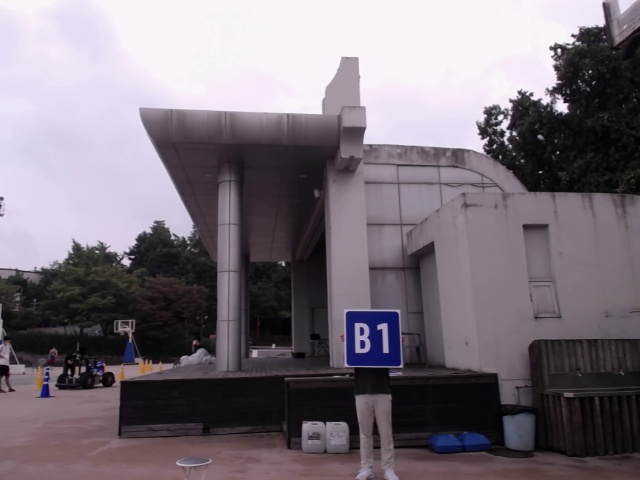delivery_b1: (344, 309, 402, 367)
